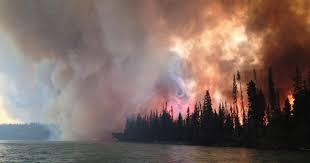fire: (146, 14, 309, 127), (285, 88, 296, 111)
